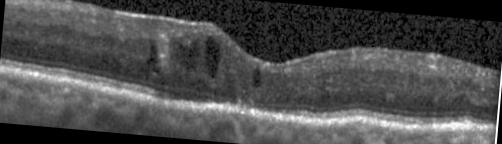intraretinal_cyst: (169, 38, 200, 72), (204, 37, 221, 78), (146, 39, 160, 74), (252, 66, 261, 87)
